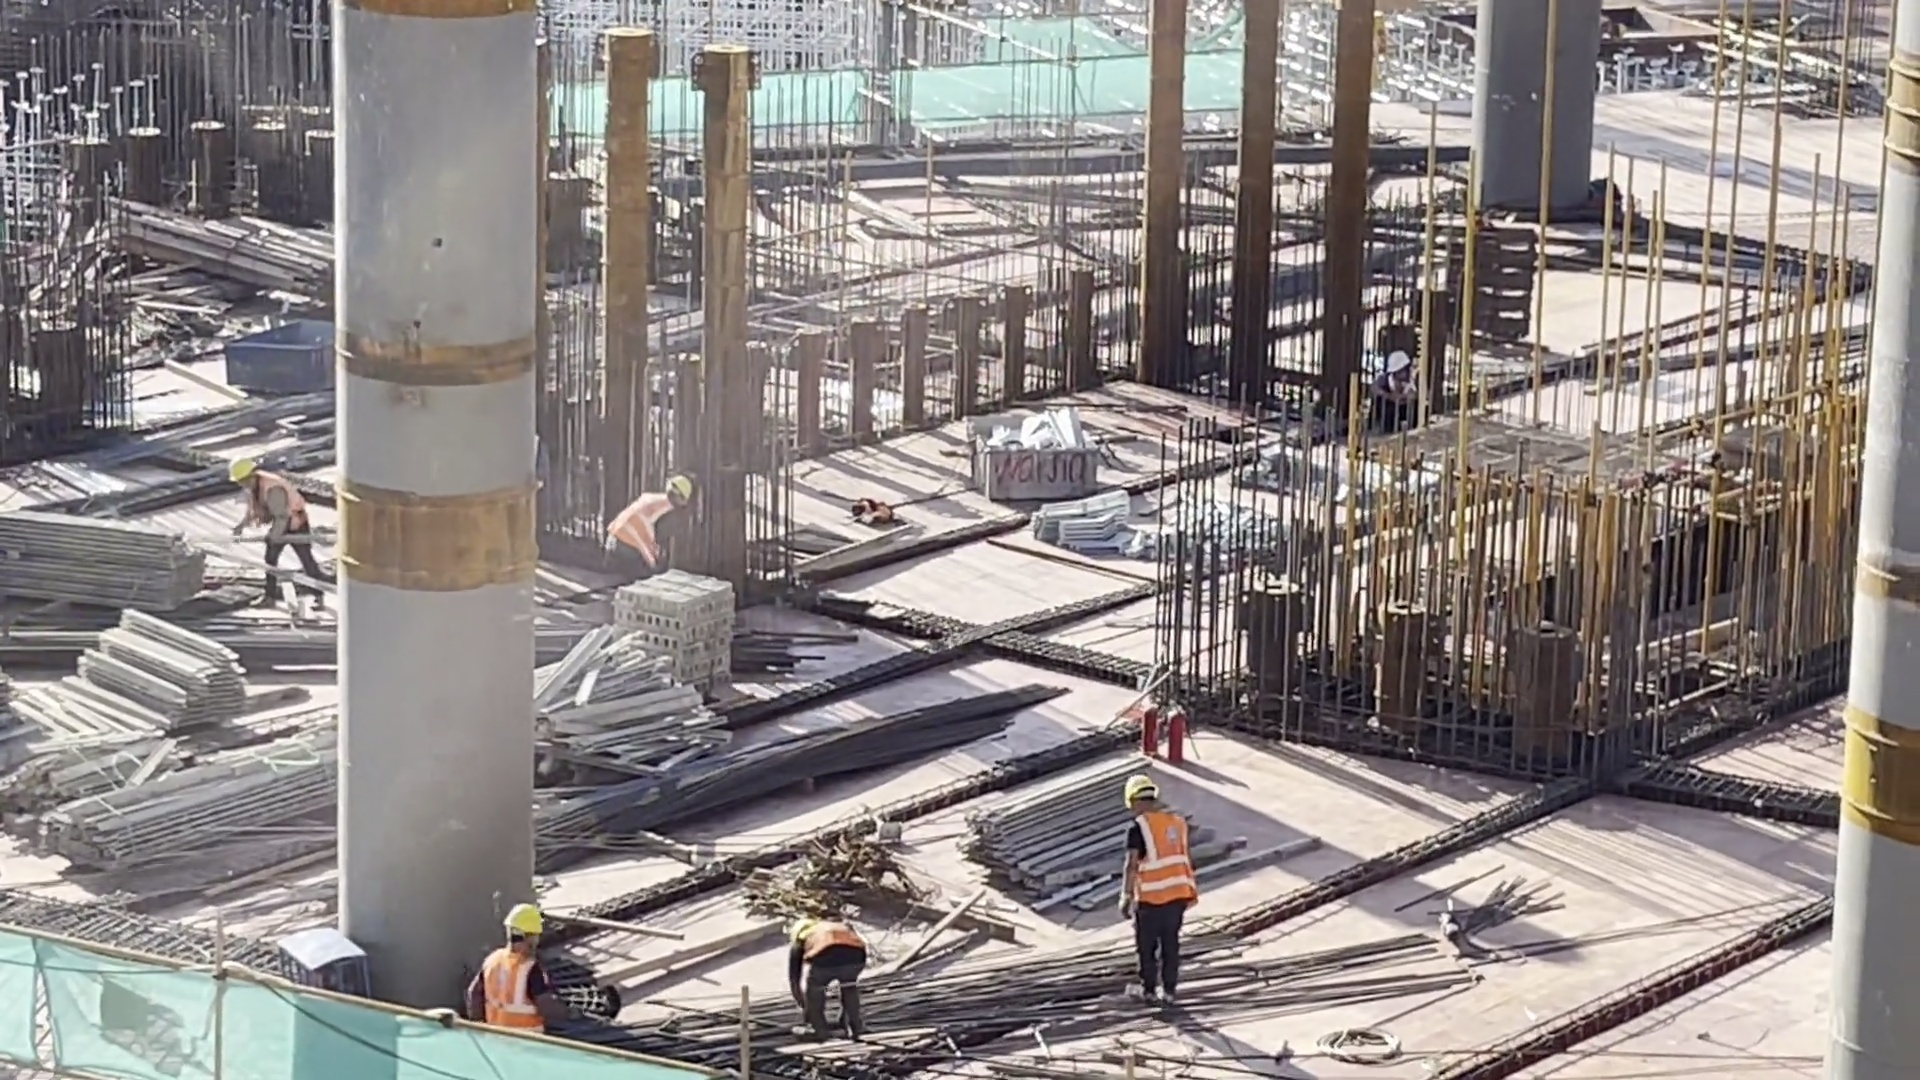helmet: (1133, 772, 1164, 804), (513, 901, 544, 927), (236, 452, 259, 487), (671, 477, 693, 511), (789, 912, 809, 942), (1131, 781, 1154, 804), (1383, 349, 1406, 369)
hopper: (958, 404, 1108, 506), (223, 321, 338, 396)
person: (1118, 773, 1198, 991), (234, 453, 318, 606), (479, 900, 566, 1031), (786, 890, 866, 1023), (1374, 325, 1444, 451), (611, 455, 684, 573)
rebar: (696, 914, 1431, 1042), (1, 618, 833, 700), (549, 725, 956, 807), (94, 375, 369, 475), (1634, 322, 1866, 352)
vest: (1123, 807, 1204, 914), (611, 492, 669, 557), (476, 961, 538, 1021), (269, 479, 328, 537), (816, 926, 861, 974), (1389, 379, 1433, 416)
wood: (196, 207, 346, 304)
